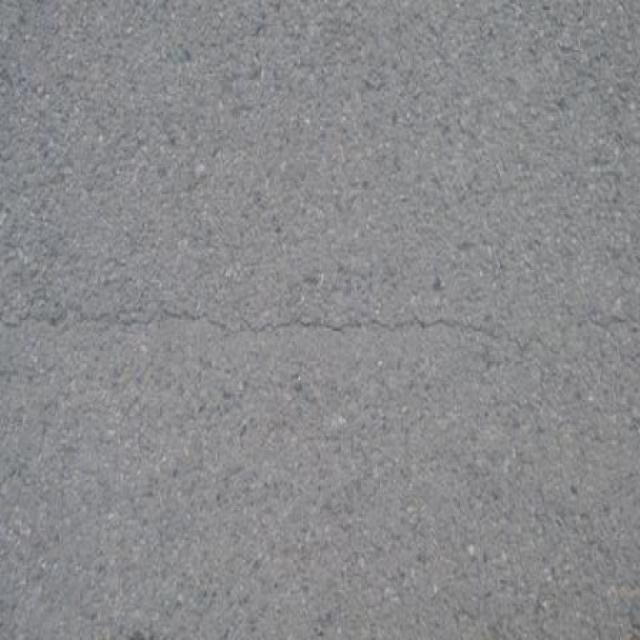Alligator Crack: (1, 300, 508, 341)
